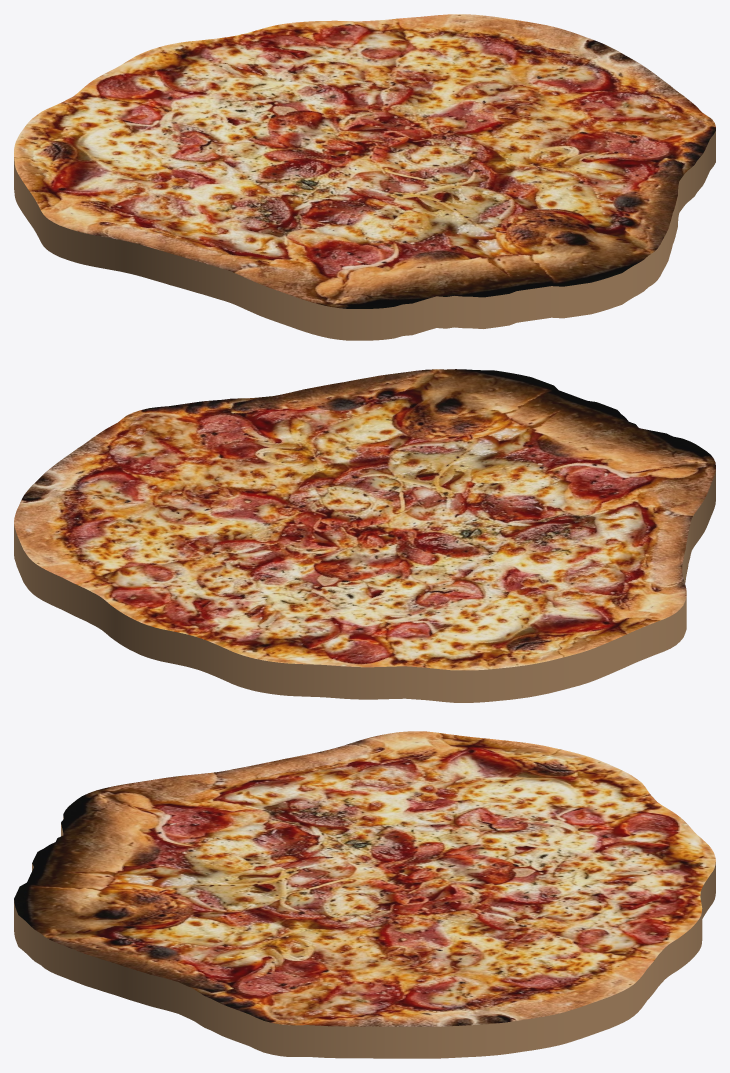
The model's file is pizza-calabresa.glb.
3 renders of one model, top to bottom at view 1: azimuth 30°, elevation 25°; view 2: azimuth 150°, elevation 25°; view 3: azimuth 270°, elevation 25°, orthographic. The views are drawn at different scales.
Visible parts, largest first — view 1: prato; view 2: prato; view 3: prato.
Part boxes in pixels (x1,y1,x2,y2): prato: [14, 14, 715, 340]; prato: [14, 369, 715, 702]; prato: [14, 731, 715, 1058].
Bounding box in the file's own units: 0.3591 × 0.018 × 0.3601.
2 materials, 1 textured.
